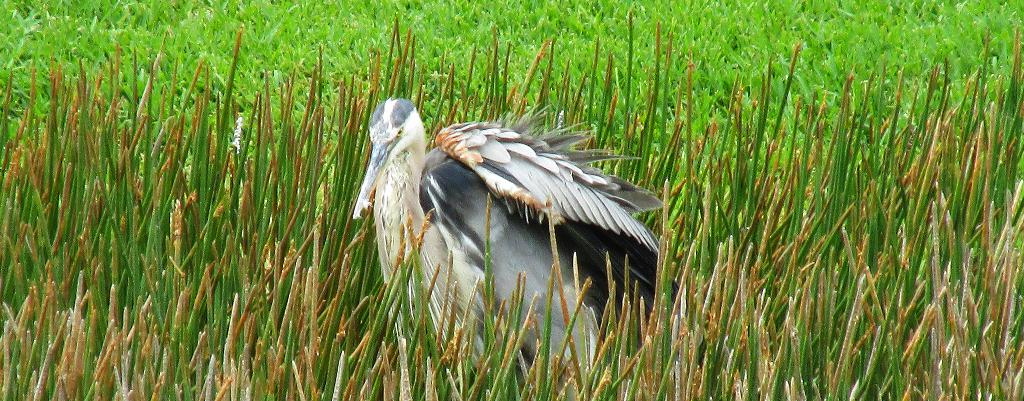Bird: (353, 97, 688, 401)
